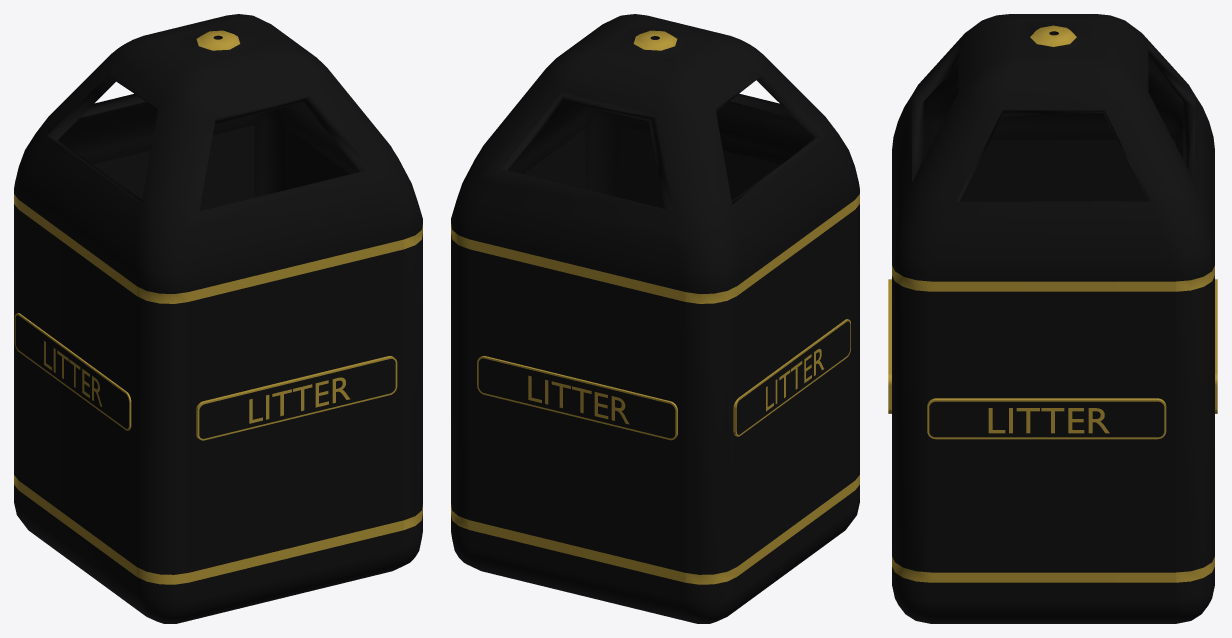
File: bin.fbx
3 renders of one model, left to right at view 1: azimuth 30°, elevation 25°; view 2: azimuth 150°, elevation 25°; view 3: azimuth 270°, elevation 25°, orthographic. The views are drawn at different scales.
Visible parts, largest first — view 1: bin; view 2: bin; view 3: bin.
Part boxes in pixels (<box>): bin: <box>14,14,422,623</box>; bin: <box>451,14,859,623</box>; bin: <box>888,14,1217,623</box>.
Size of the model in its own units: 50.29 by 86.21 by 48.4.
